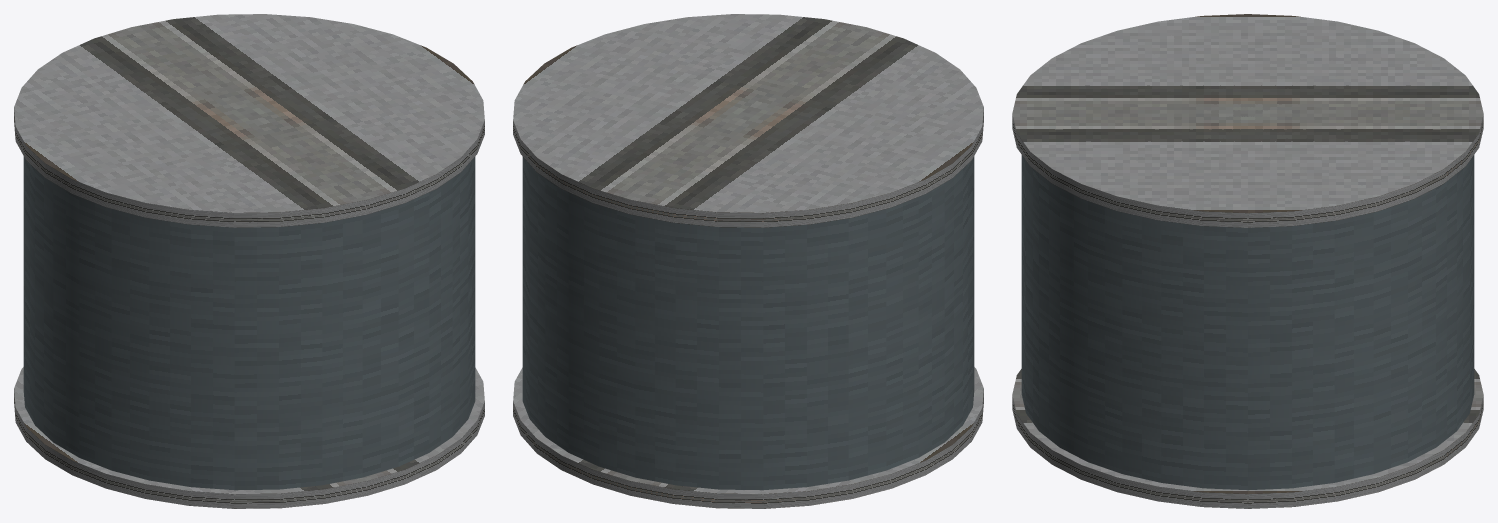
File: pot.glb
The picture shows the model from 3 angles, left to right: view 1: azimuth 30°, elevation 25°; view 2: azimuth 150°, elevation 25°; view 3: azimuth 270°, elevation 25°; orthographic projection.
Visible parts, largest first — view 1: shell, rim (×2); view 2: shell, rim (×2); view 3: shell, rim (×2).
Part boxes in pixels (x1,y1,x2,y2): shell: (23,156,475,490); rim (×2): (14,14,484,508); shell: (522,156,974,490); rim (×2): (513,14,983,508); shell: (1021,155,1474,490); rim (×2): (1012,14,1483,508).
Bounding box in the file's own units: 0.26 × 0.18 × 0.26.
Materials: 2 (2 with a texture image).
